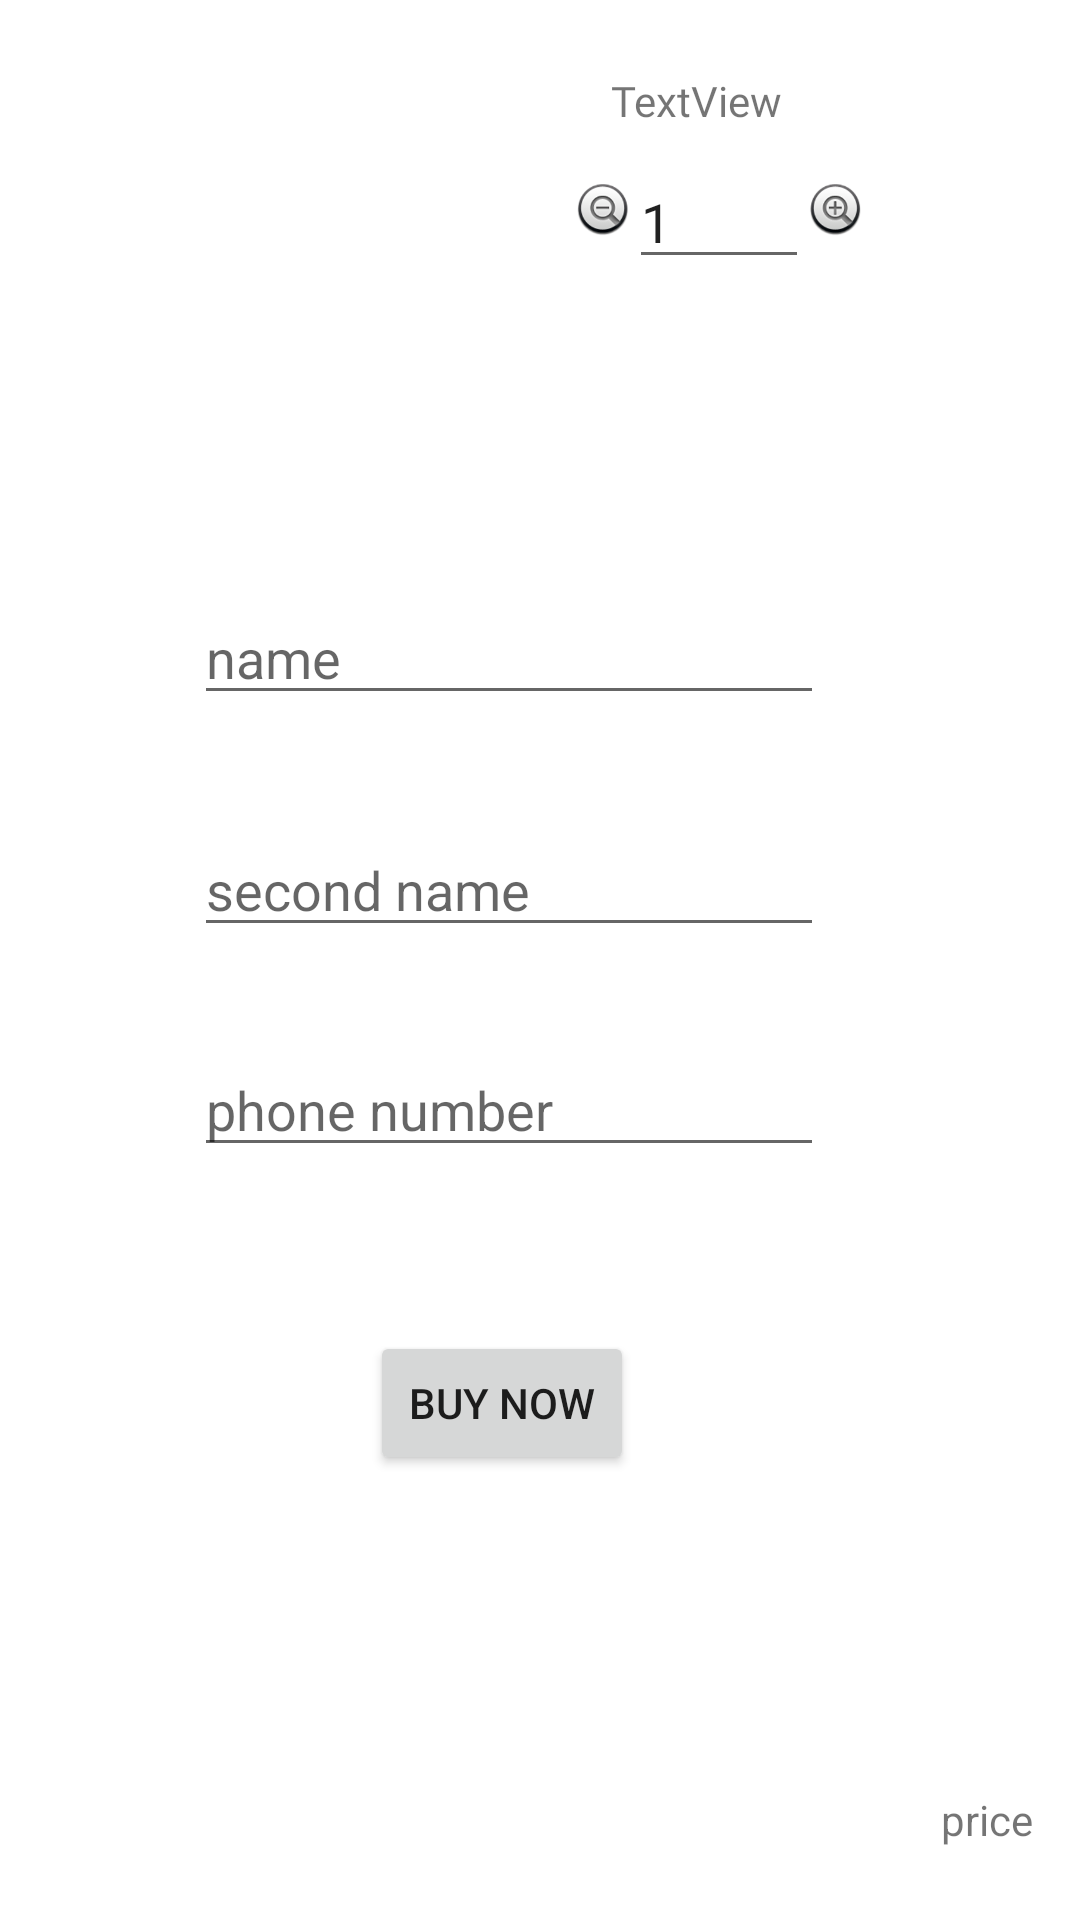

Icons on this 1080×1920 Android screen, each with the point to tap as [x,y]:
minus: [603,209]
plus: [835,209]
